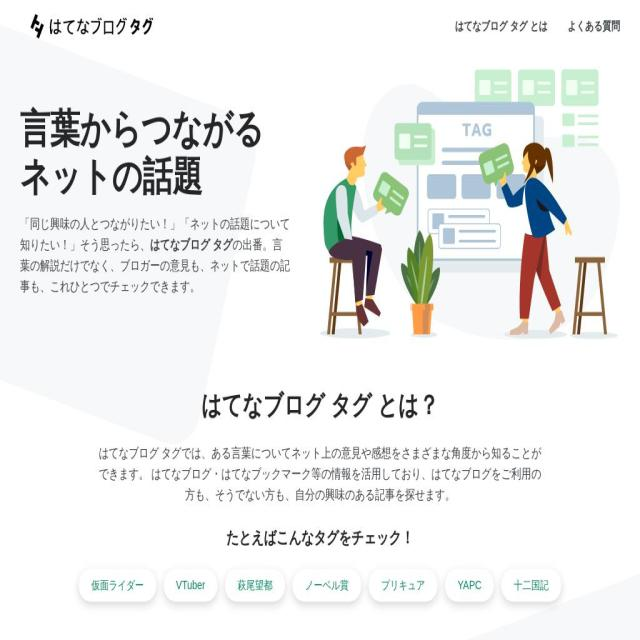button: (20, 0, 164, 52), (78, 569, 156, 603), (292, 569, 362, 603), (369, 569, 438, 603), (225, 569, 286, 603), (501, 569, 562, 603), (163, 569, 218, 603), (445, 569, 494, 603)
heading: (95, 388, 545, 421), (20, 526, 620, 548), (20, 106, 264, 151), (20, 154, 202, 198)
image: (0, 0, 592, 335), (320, 69, 620, 340), (377, 542, 640, 640), (20, 0, 164, 52)
link: (455, 19, 547, 33), (568, 19, 620, 33)
text: (95, 442, 545, 506), (20, 237, 290, 293), (20, 216, 290, 252), (150, 236, 232, 252)
